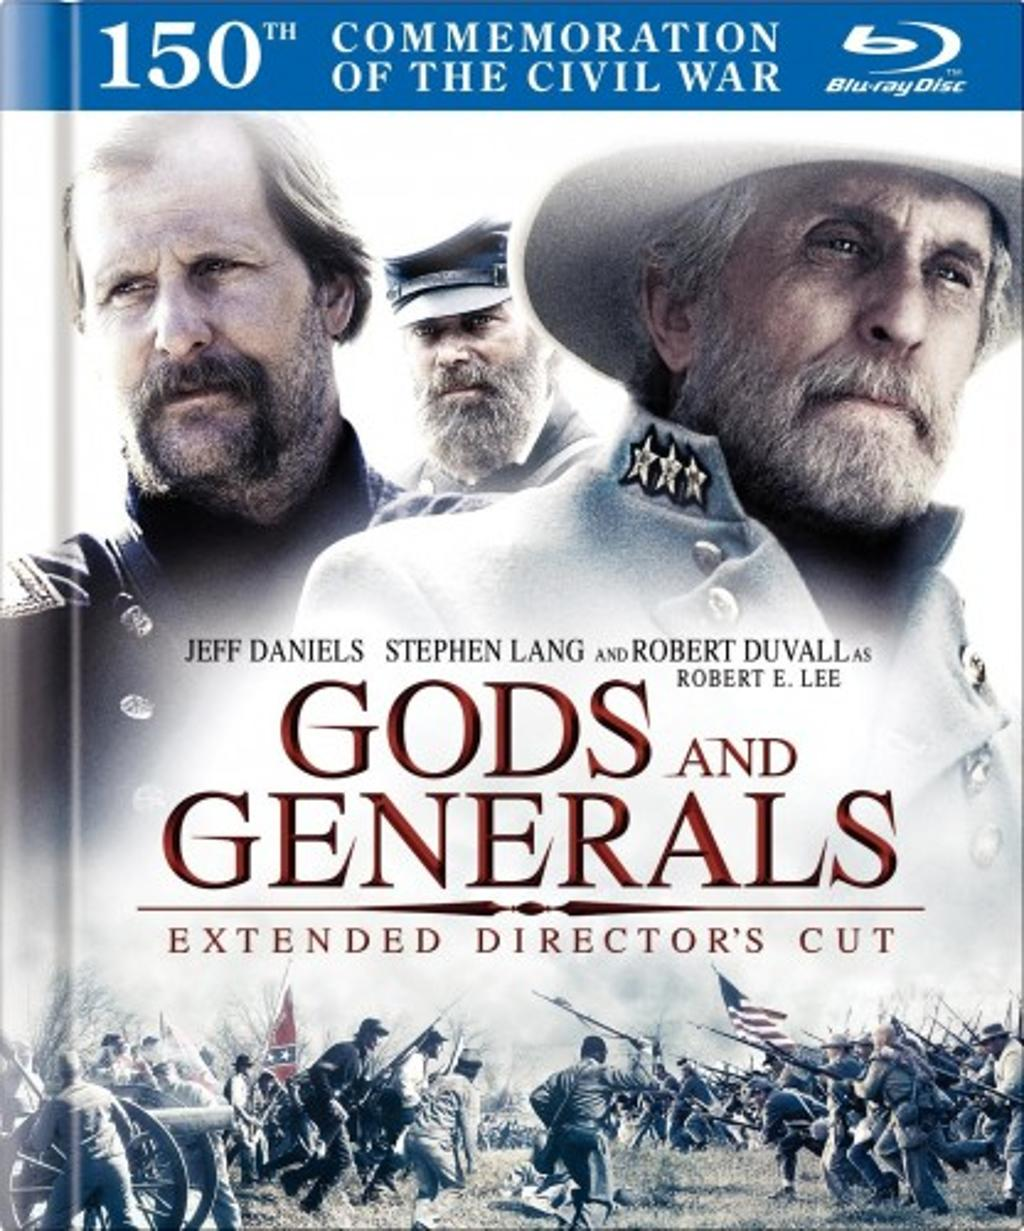face: (712, 144, 993, 519), (91, 195, 315, 493), (394, 276, 526, 442)
